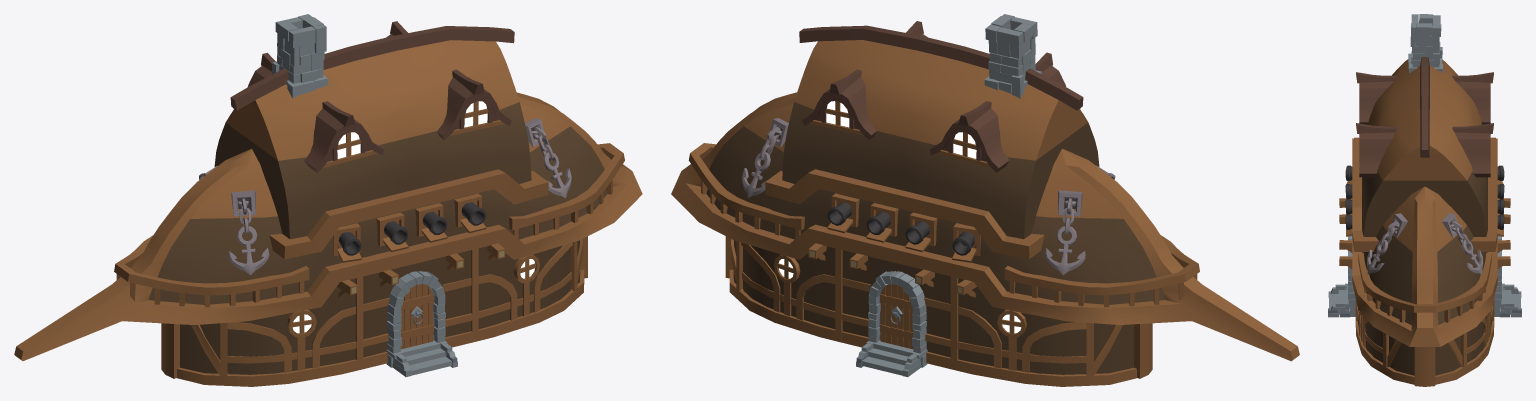
The model's file is quaternius-pirate-house-1.glb.
3 views of the same model, side by side, from view 1: azimuth 30°, elevation 25°; view 2: azimuth 150°, elevation 25°; view 3: azimuth 270°, elevation 25° (orthographic). The views are drawn at different scales.
Parts seen in each view (by area): view 1: Environment_House1; view 2: Environment_House1; view 3: Environment_House1.
Boxes of the visible parts, box(x1,y1,x2,y2) form: Environment_House1: box(14, 14, 642, 386); Environment_House1: box(671, 14, 1299, 386); Environment_House1: box(1328, 14, 1521, 386).
Bounding box in the file's own units: 13.54 × 6.77 × 4.59.
Materials: 2 (1 with a texture image).
